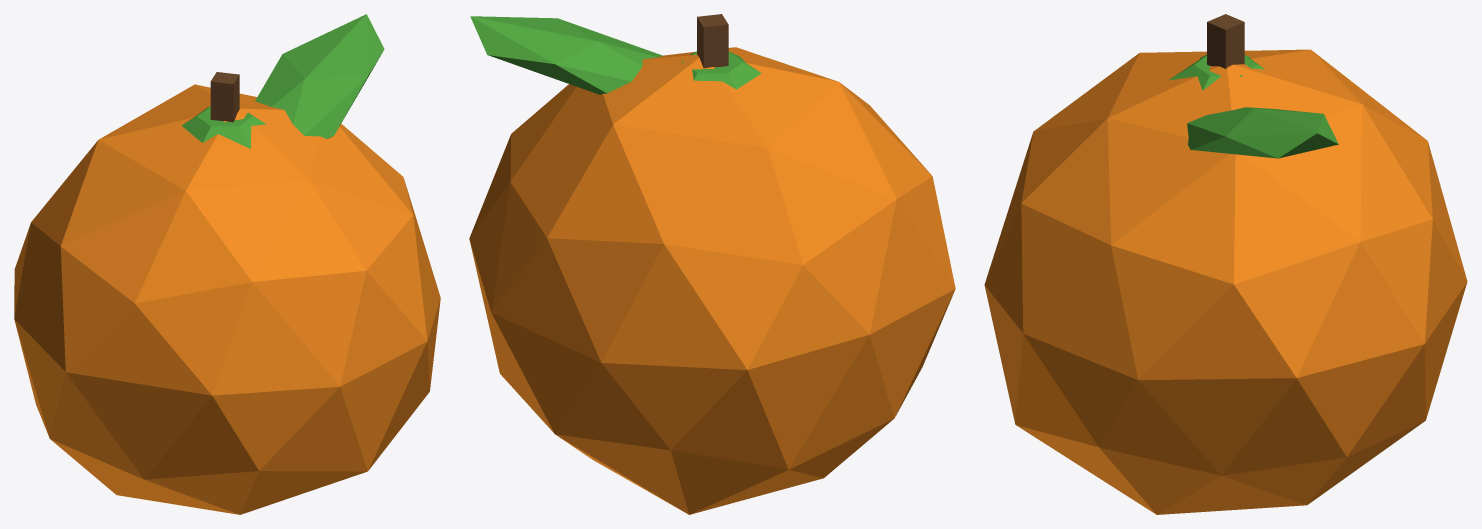
Rendered from prop_orange_v01.glb.
3 views of the same model, side by side, from view 1: azimuth 30°, elevation 25°; view 2: azimuth 150°, elevation 25°; view 3: azimuth 270°, elevation 25° (orthographic). The views are drawn at different scales.
Visible parts, largest first — view 1: prop_orange_v01; view 2: prop_orange_v01; view 3: prop_orange_v01.
Part boxes in pixels (bbox=[...]): prop_orange_v01: bbox=[14, 14, 440, 514]; prop_orange_v01: bbox=[469, 14, 955, 514]; prop_orange_v01: bbox=[984, 14, 1467, 514].
Bounding box in the file's own units: 0.3162 × 0.3281 × 0.3079.
